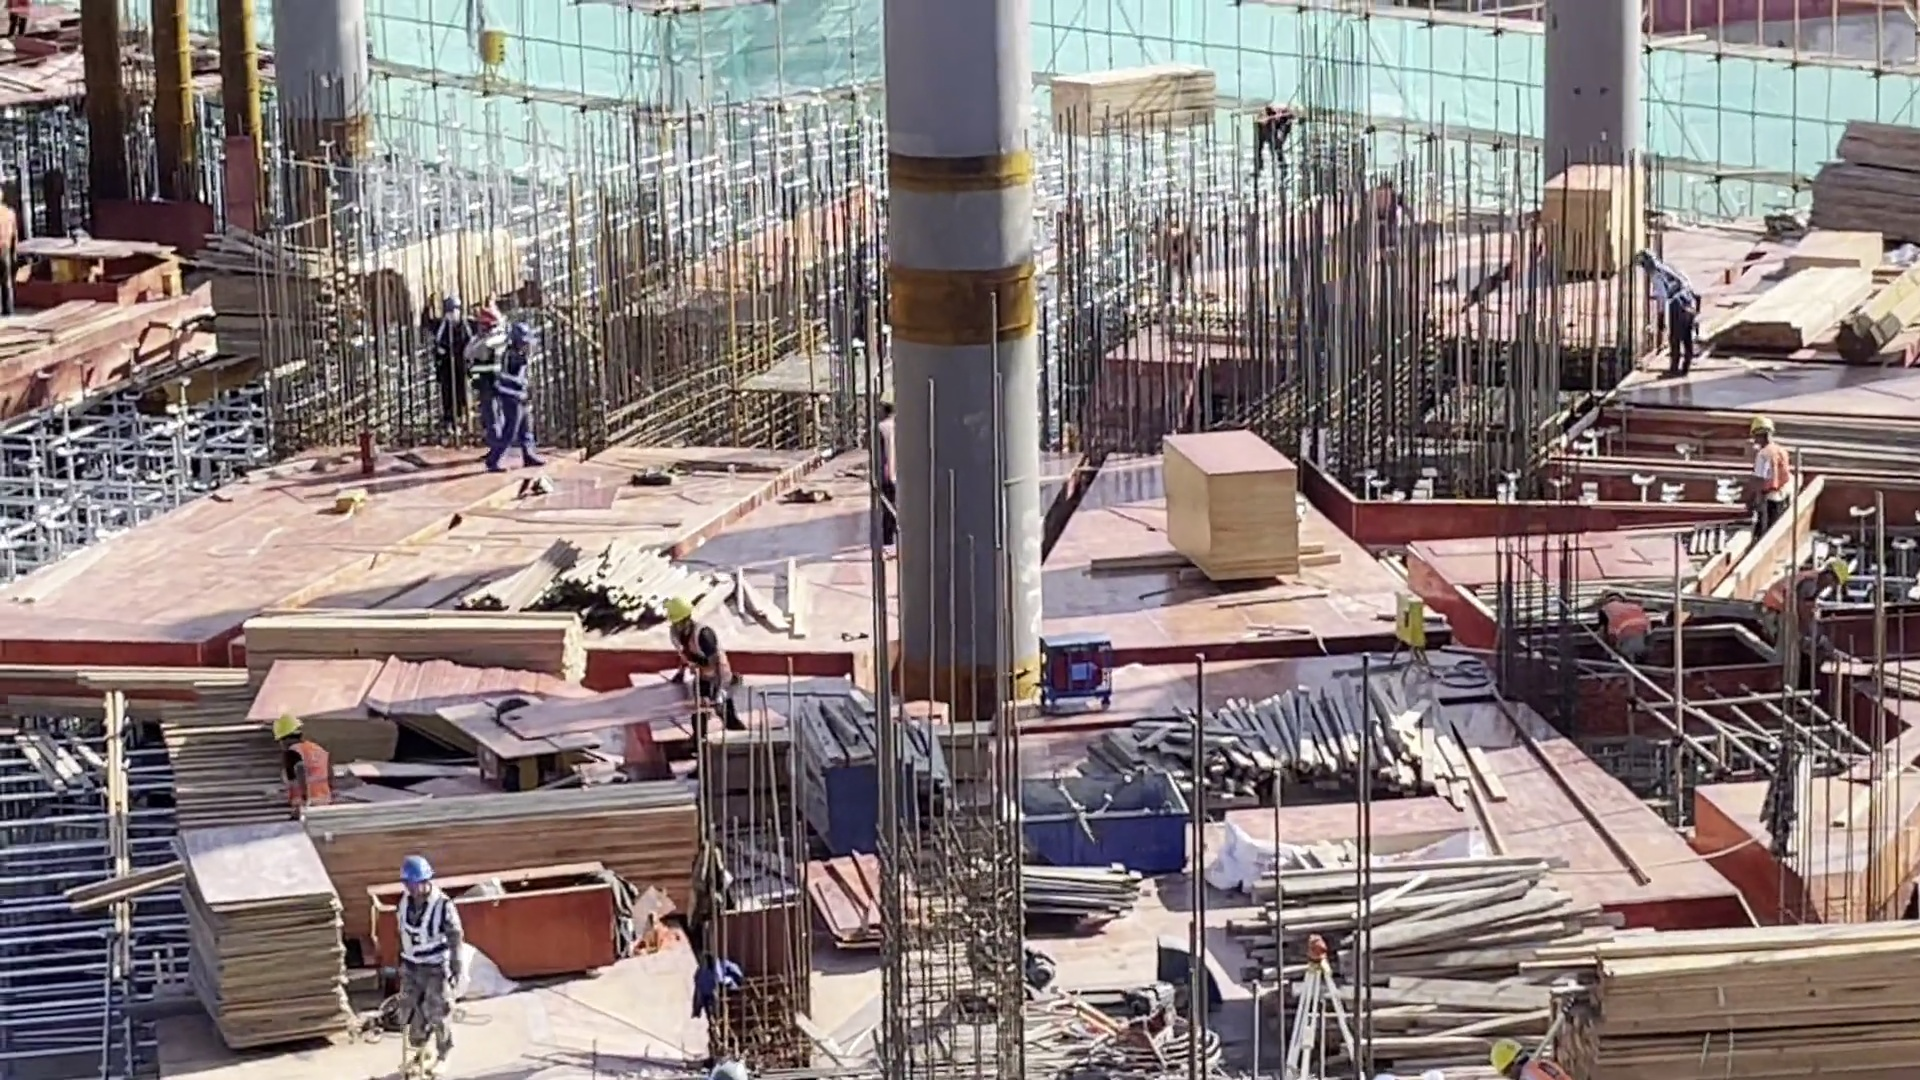board: (172, 827, 358, 1051), (1160, 426, 1301, 579), (260, 655, 398, 758), (1539, 162, 1643, 279), (802, 846, 892, 955)
cutter: (437, 687, 598, 788), (22, 226, 184, 302)
ebox: (1389, 588, 1429, 669), (475, 26, 508, 81)
helmet: (1488, 1035, 1521, 1078), (398, 852, 434, 882), (272, 713, 302, 743), (662, 596, 694, 624), (1825, 556, 1852, 585), (441, 293, 465, 320), (511, 321, 533, 344), (1636, 251, 1658, 270), (477, 309, 500, 327), (1284, 103, 1307, 121), (1751, 415, 1775, 431), (876, 388, 895, 405)
hopper: (1015, 772, 1193, 873)
person: (398, 852, 468, 1080), (662, 595, 746, 781), (1634, 249, 1703, 378), (490, 318, 543, 466), (270, 713, 335, 824), (1760, 558, 1848, 639), (425, 291, 472, 431), (466, 306, 507, 441), (1749, 417, 1794, 535), (1594, 588, 1655, 668), (1254, 102, 1307, 183), (1489, 1035, 1578, 1080), (874, 386, 896, 545), (1, 186, 19, 316), (5, 1, 34, 39)
vest: (665, 624, 731, 699), (399, 891, 446, 965), (1764, 568, 1825, 615), (288, 743, 329, 809), (428, 314, 468, 377), (1755, 447, 1793, 506), (496, 347, 533, 405), (1599, 601, 1648, 642), (1659, 263, 1695, 317), (1601, 601, 1646, 644), (464, 333, 500, 386), (879, 419, 897, 485)
wood: (1255, 851, 1584, 1061), (1547, 909, 1920, 1080), (1085, 687, 1506, 820), (238, 601, 590, 678), (307, 800, 705, 865), (462, 547, 725, 636), (1710, 259, 1920, 369), (212, 227, 344, 362), (347, 229, 526, 317), (1052, 59, 1220, 129)
